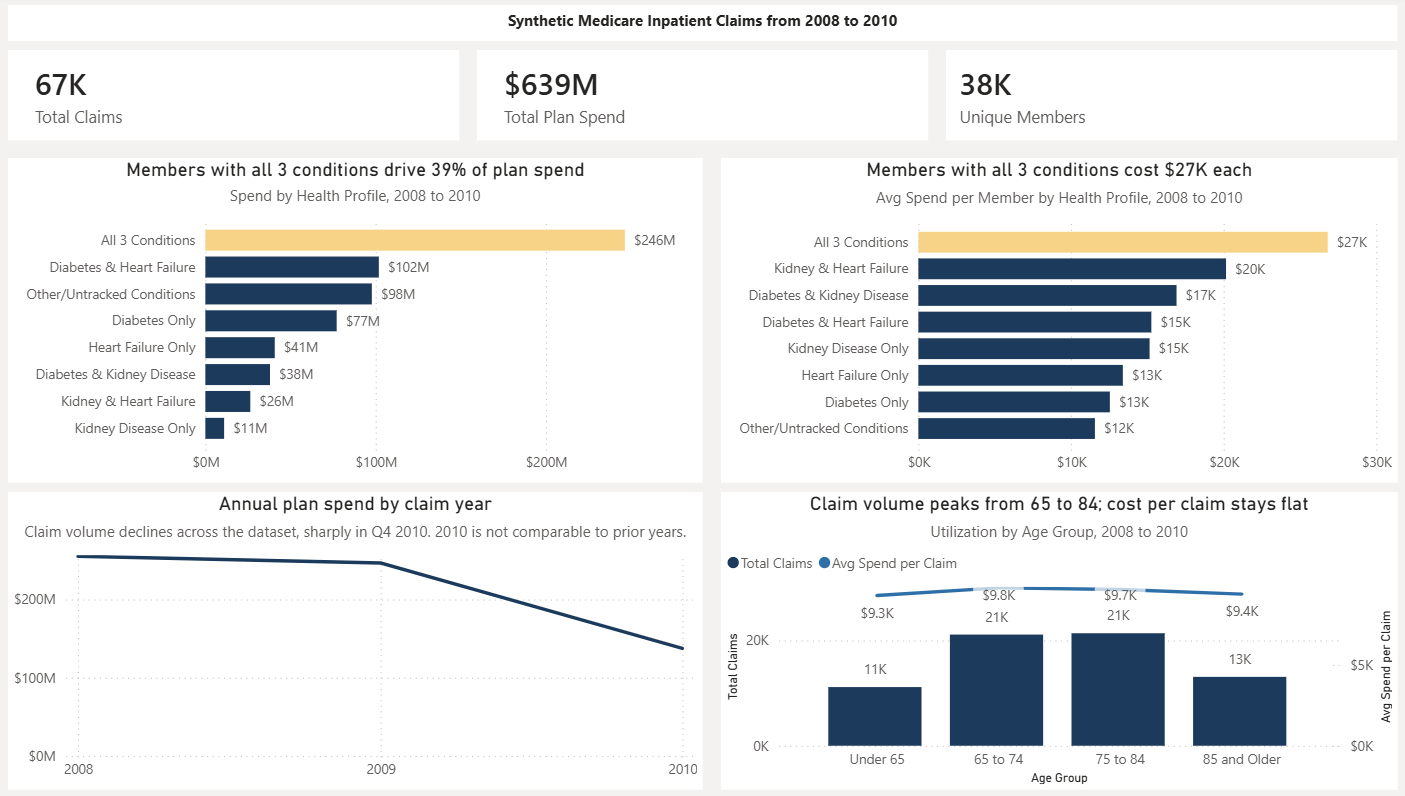

The dashboard page shown, as its layout file describes it:
{"tool":"powerbi","page":{"name":"Page 1","canvas":[1280,720],"ordinal":0},"visuals":[{"type":"cardVisual","fields":{"Data":["fact_claims.Total Claims"]},"box":[24,48,400,80],"z":0},{"type":"cardVisual","fields":{"Data":["fact_claims.Total Plan Spend"]},"box":[440,48,400,80],"z":1000},{"type":"cardVisual","fields":{"Data":["fact_claims.Unique Members"]},"box":[856,48,400,80],"z":2000},{"type":"clusteredBarChart","title":"Members with all 3 conditions drive 39% of plan spend","fields":{"Y":["Sum(v_health_profile_spend_summary.total_plan_spend)"],"Category":["v_health_profile_spend_summary.member_health_profile"]},"box":[24,144,616,288],"z":3000},{"type":"lineClusteredColumnComboChart","title":"Claim volume peaks from 65 to 84; cost per claim stays flat","fields":{"Category":["fact_claims.Age Group"],"Y":["fact_claims.Total Claims"],"Y2":["fact_claims.Avg Spend per Claim"]},"box":[656,440,600,264],"z":4000},{"type":"lineChart","title":"Annual plan spend by claim year","fields":{"Y":["fact_claims.Total Plan Spend"],"Category":["fact_claims.discharge_date.Variation.Date Hierarchy.Year"]},"box":[24,440,616,264],"z":5000},{"type":"clusteredBarChart","title":"Members with all 3 conditions cost $27K each","fields":{"Y":["fact_claims.Avg Spend per Member"],"Category":["dim_members.member_health_profile"]},"box":[656,144,600,288],"z":6000},{"type":"textbox","title":"Synthetic Medicare claims from 2008 to 2010","box":[24,8,1232,32],"z":7000}]}

Visuals, with their boxes in screenshot pixels (x1, y1, x2, y2), scaled from the page's 1280x720 canvas onto the 1405x796 screenshot:
cardVisual - fact_claims.Total Claims: 26/53/465/142
cardVisual - fact_claims.Total Plan Spend: 483/53/922/142
cardVisual - fact_claims.Unique Members: 940/53/1379/142
"Members with all 3 conditions drive 39% of plan spend" clusteredBarChart: 26/159/702/478
"Claim volume peaks from 65 to 84; cost per claim stays flat" lineClusteredColumnComboChart: 720/486/1379/778
"Annual plan spend by claim year" lineChart: 26/486/702/778
"Members with all 3 conditions cost $27K each" clusteredBarChart: 720/159/1379/478
"Synthetic Medicare claims from 2008 to 2010" textbox: 26/9/1379/44
